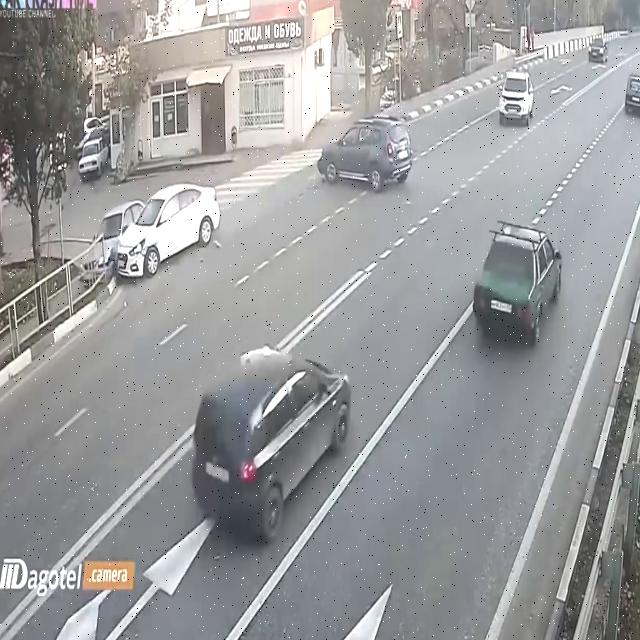accident: (76, 168, 226, 288)
